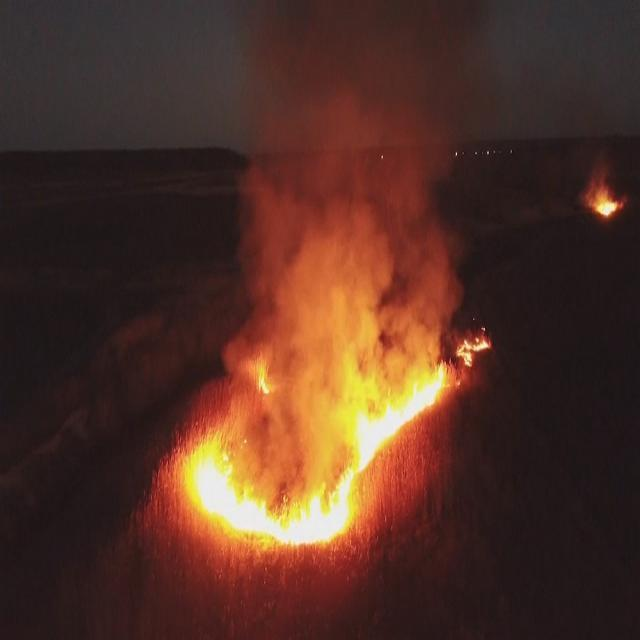Fire: (186, 437, 356, 549), (356, 364, 444, 474), (585, 179, 626, 219), (457, 337, 492, 366), (258, 371, 272, 394)
Smoke: (269, 0, 353, 463), (353, 0, 454, 363), (240, 176, 268, 364)
